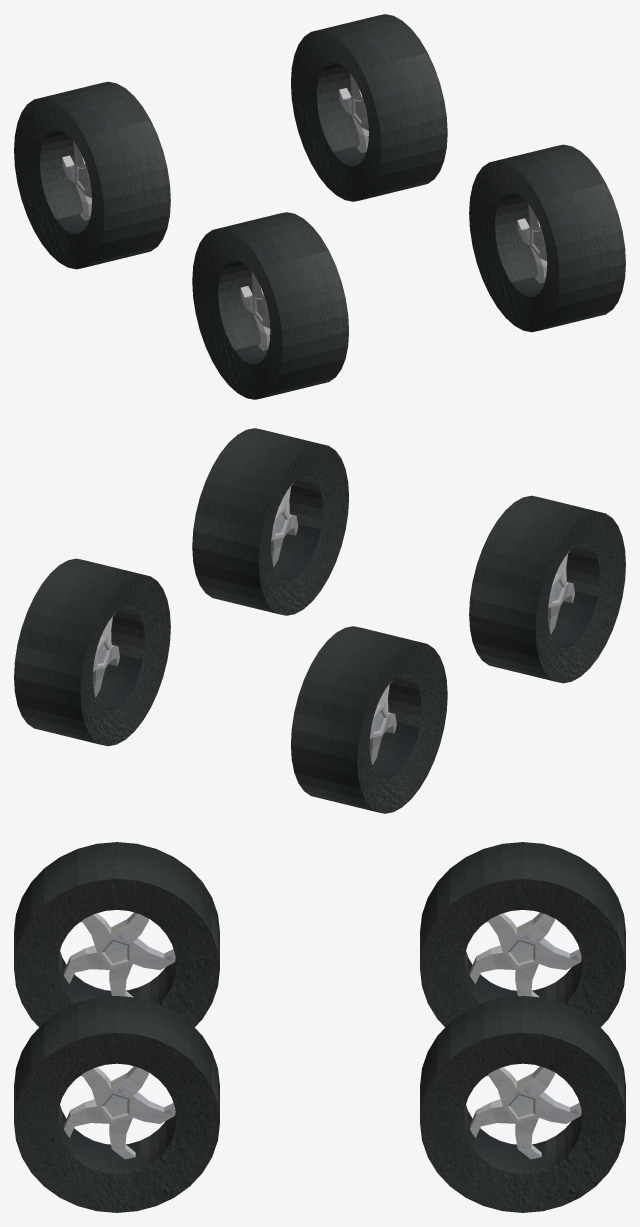
File: rodas alexandre.fbx
3 renders of one model, top to bottom at view 1: azimuth 30°, elevation 25°; view 2: azimuth 150°, elevation 25°; view 3: azimuth 270°, elevation 25°, orthographic. The views are drawn at different scales.
Parts seen in each view (by area): view 1: WFL, WRR, WFR, WRL; view 2: WFR, WRL, WFL, WRR; view 3: WFR, WRR, WFL, WRL.
Part boxes in pixels (x1,y1,x2,y2): WFL: [14, 81, 170, 269]; WRR: [469, 144, 625, 332]; WFR: [291, 14, 447, 201]; WRL: [192, 212, 348, 399]; WFR: [14, 558, 170, 746]; WRL: [469, 495, 625, 683]; WFL: [291, 626, 447, 813]; WRR: [192, 428, 348, 615]; WFR: [420, 996, 625, 1212]; WRR: [14, 996, 219, 1212]; WFL: [420, 842, 625, 1027]; WRL: [14, 842, 219, 1027].
Bounding box in the file's own units: 402 × 177 × 545.
